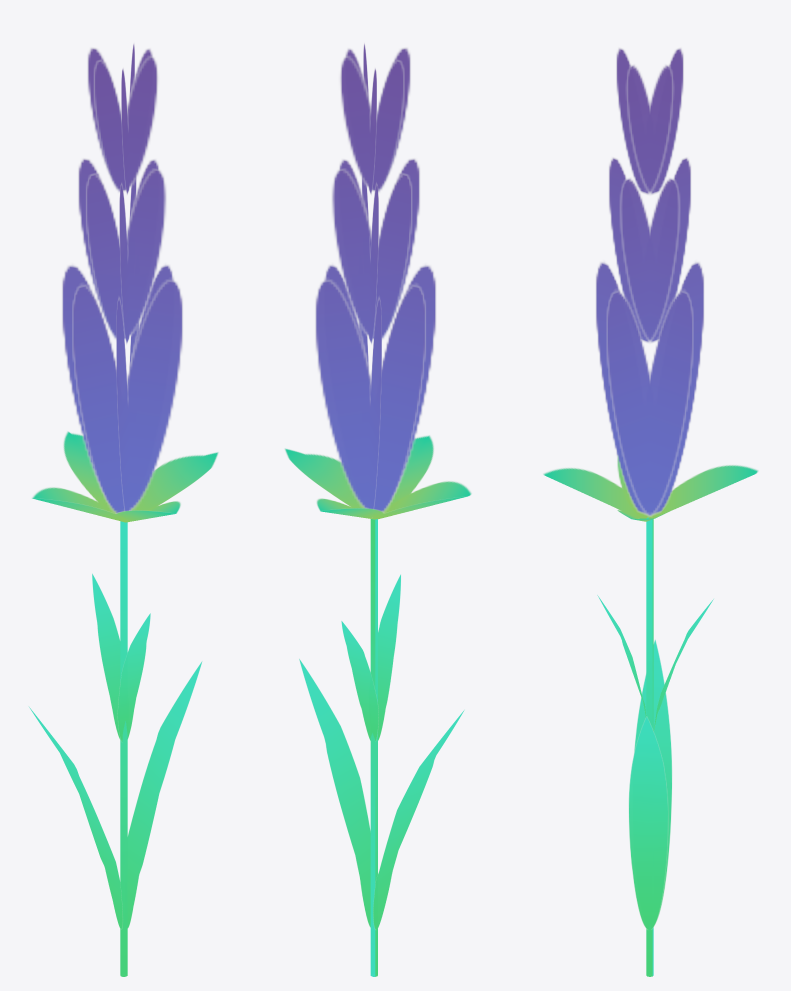
The model's file is Flowers_n03_23.glb.
3 views of the same model, side by side, from view 1: azimuth 30°, elevation 25°; view 2: azimuth 150°, elevation 25°; view 3: azimuth 270°, elevation 25° (orthographic).
Parts seen in each view (by area): view 1: polySurface642; view 2: polySurface642; view 3: polySurface642.
Part boxes in pixels (x1,y1,x2,y2): polySurface642: (28, 43, 218, 976); polySurface642: (284, 43, 471, 976); polySurface642: (543, 47, 758, 976).
Size of the model in its own units: 0.2859 by 1.17 by 0.2858.
1 material, 1 textured.
